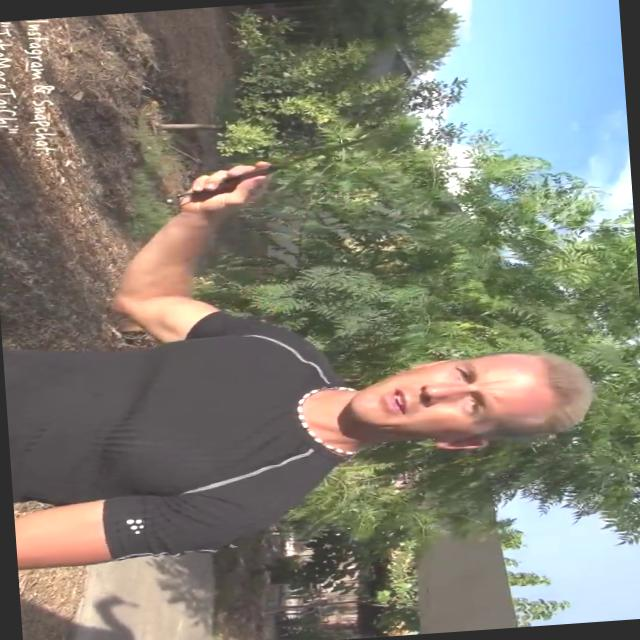knife: (164, 137, 391, 205)
